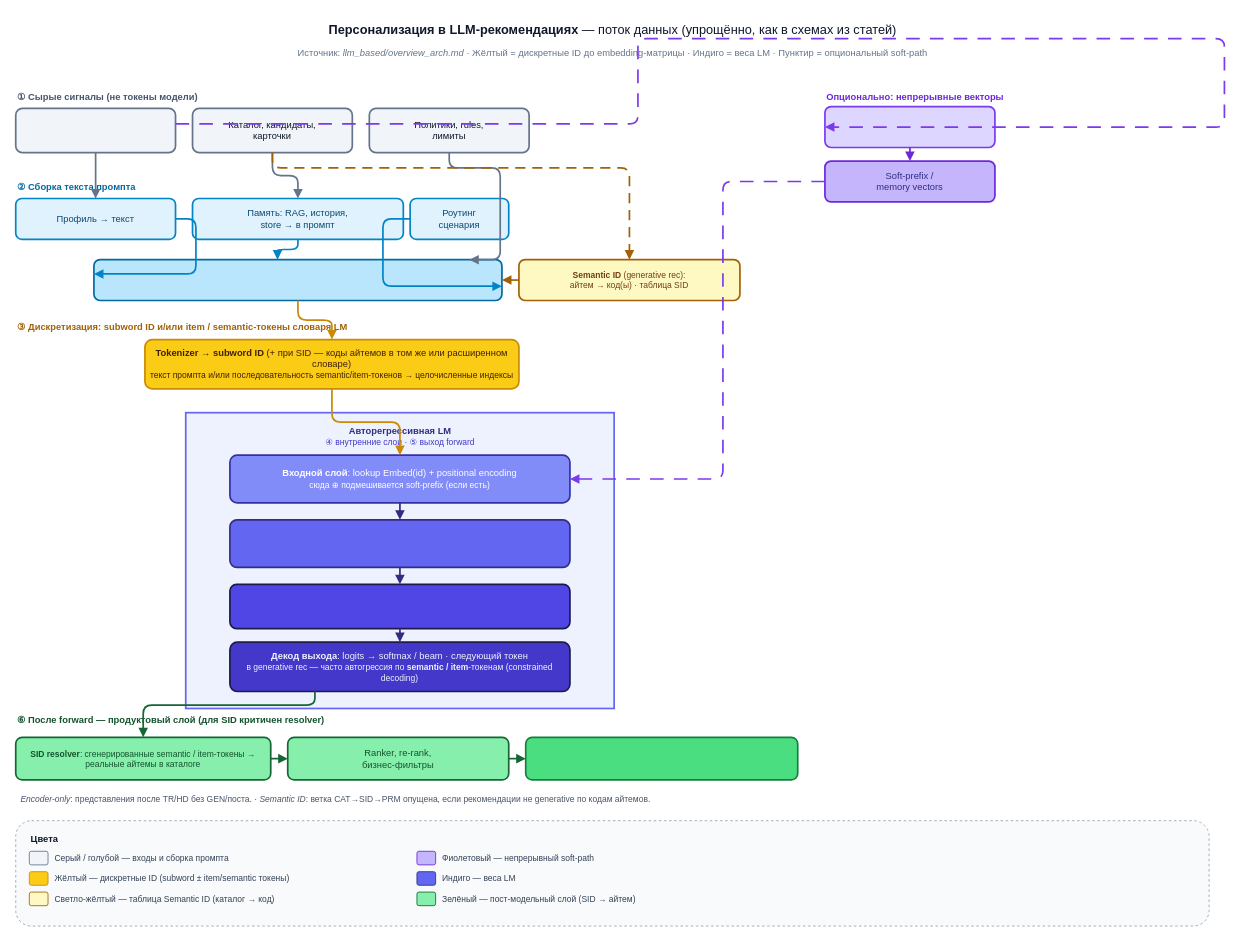
The diagram is 1246 pixels wide and 941 high, and some of its shapes have lost their labels. The centre of each missing label's shape, as x and y in pixels:
Task head — LM · классификация · скоринг списка кандидатов: the point at 399,606
Transformer ×L · adapters · LoRA · MoE · user-условные слои: the point at 399,543
User / session encoder: the point at 909,126
Ответ в канал (текст, список, объяснение): the point at 661,758
Поведение, профиль, сессия: the point at 95,130
Промпт (system + user + инструкция): the point at 297,279
